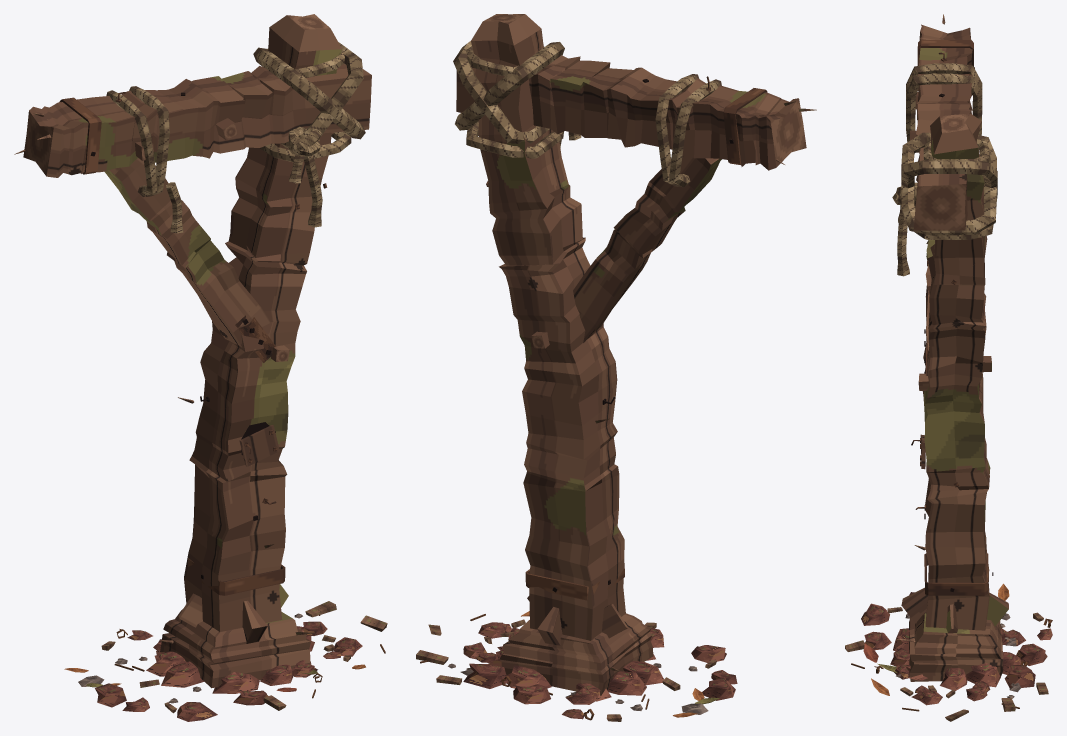
Rendered from SM_AN14_TimberProp.fbx.
The picture shows the model from 3 angles, left to right: view 1: azimuth 30°, elevation 25°; view 2: azimuth 150°, elevation 25°; view 3: azimuth 270°, elevation 25°; orthographic projection. The views are drawn at different scales.
Visible parts, largest first — view 1: AN14a_Wood, AN14a_Props; view 2: AN14a_Wood, AN14a_Props; view 3: AN14a_Wood, AN14a_Props.
Part boxes in pixels (box(x1,y1,x2,y2)): AN14a_Wood: box(29, 15, 371, 688); AN14a_Props: box(14, 14, 387, 721); AN14a_Wood: box(456, 14, 798, 695); AN14a_Props: box(416, 14, 816, 721); AN14a_Wood: box(901, 25, 1008, 681); AN14a_Props: box(845, 14, 1052, 721).
Size of the model in its own units: 1.86 by 3.05 by 1.
